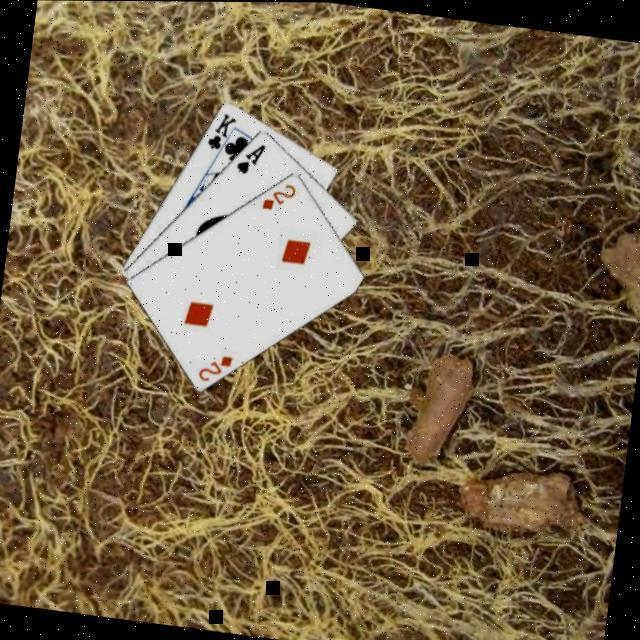2D: (192, 348, 235, 386), (256, 178, 298, 215)
AS: (231, 137, 267, 179)
KC: (200, 108, 240, 162)
